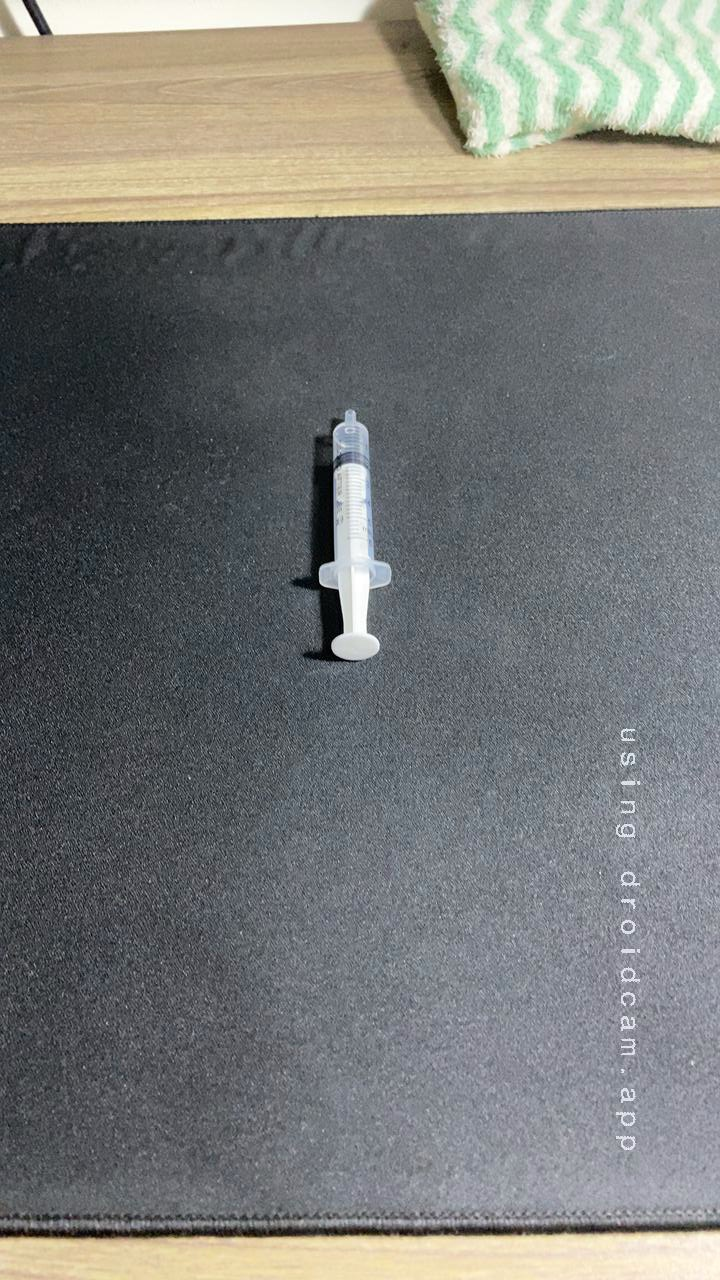syringe: (279, 392, 416, 675)
